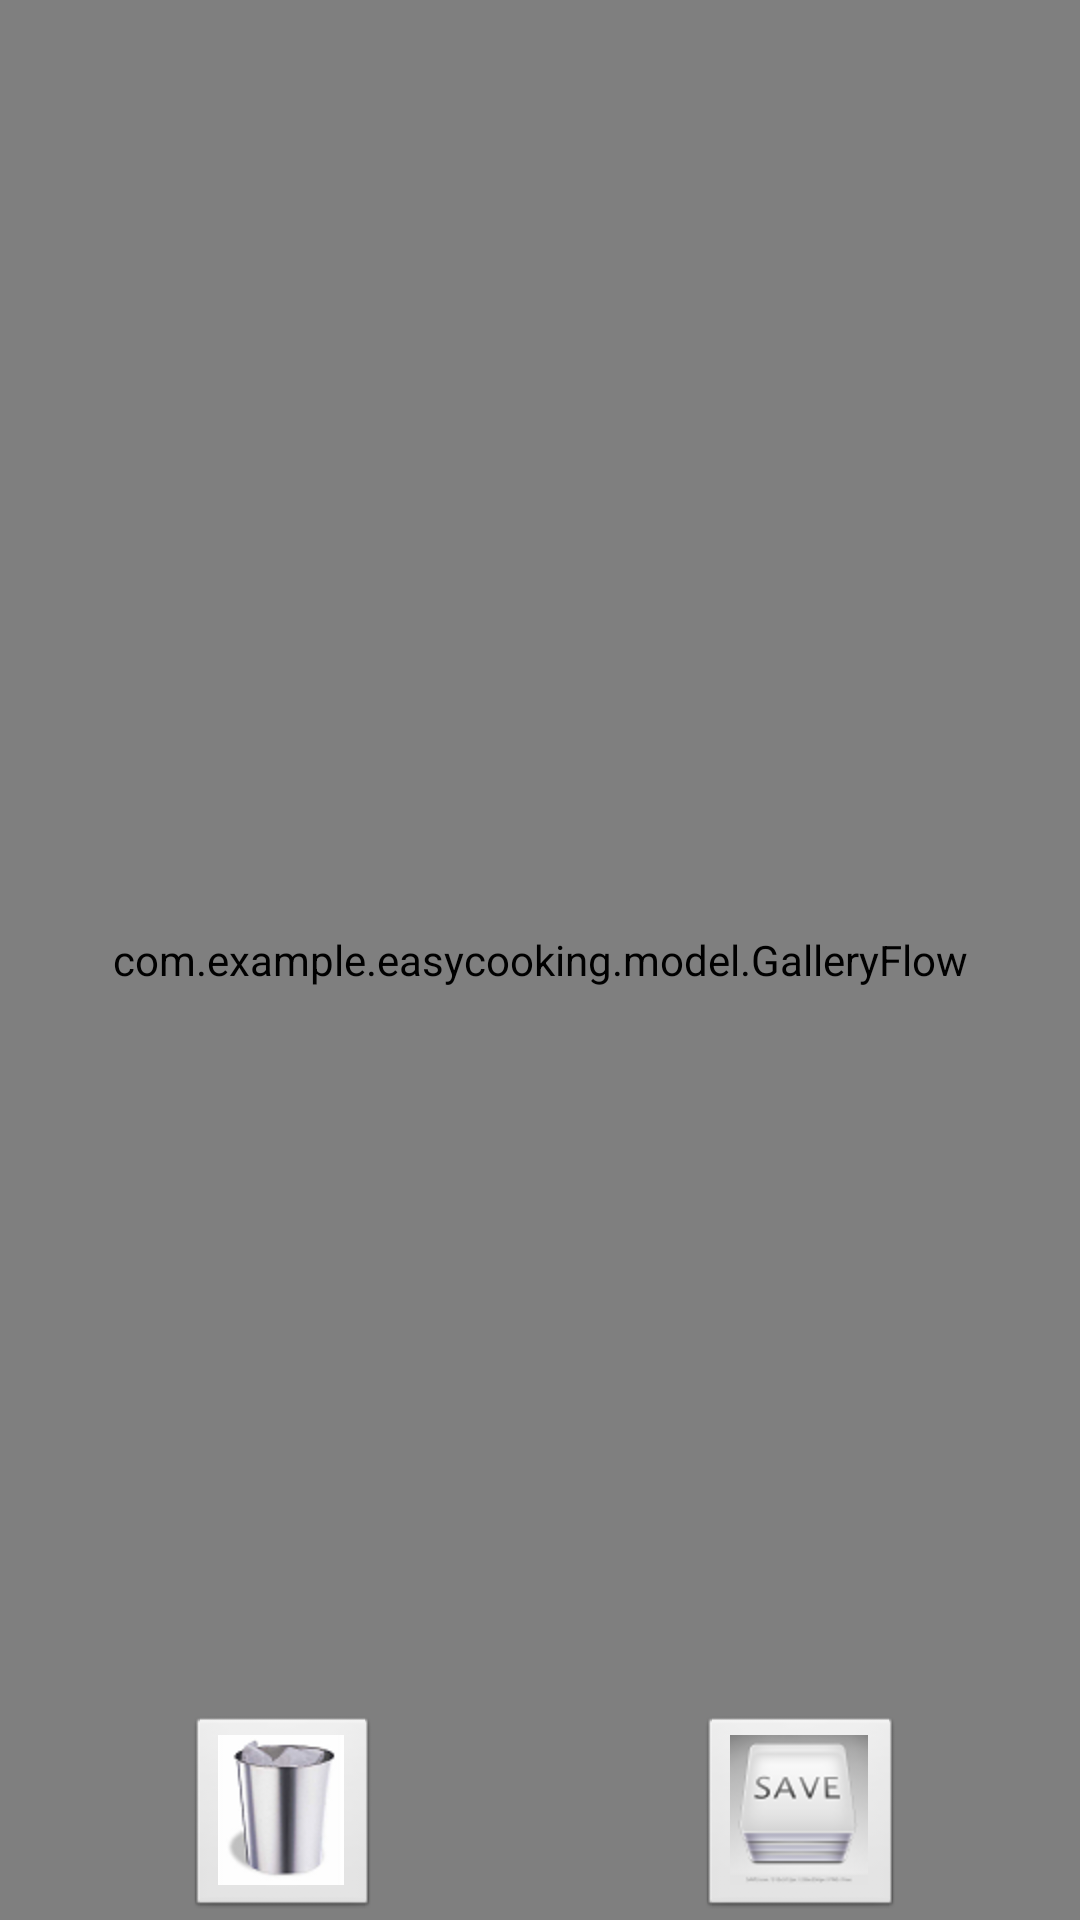

Icon click points for this 1080w x 1920h phone screenshot, format (x=x, y=y):
gar: (x=282, y=1812)
